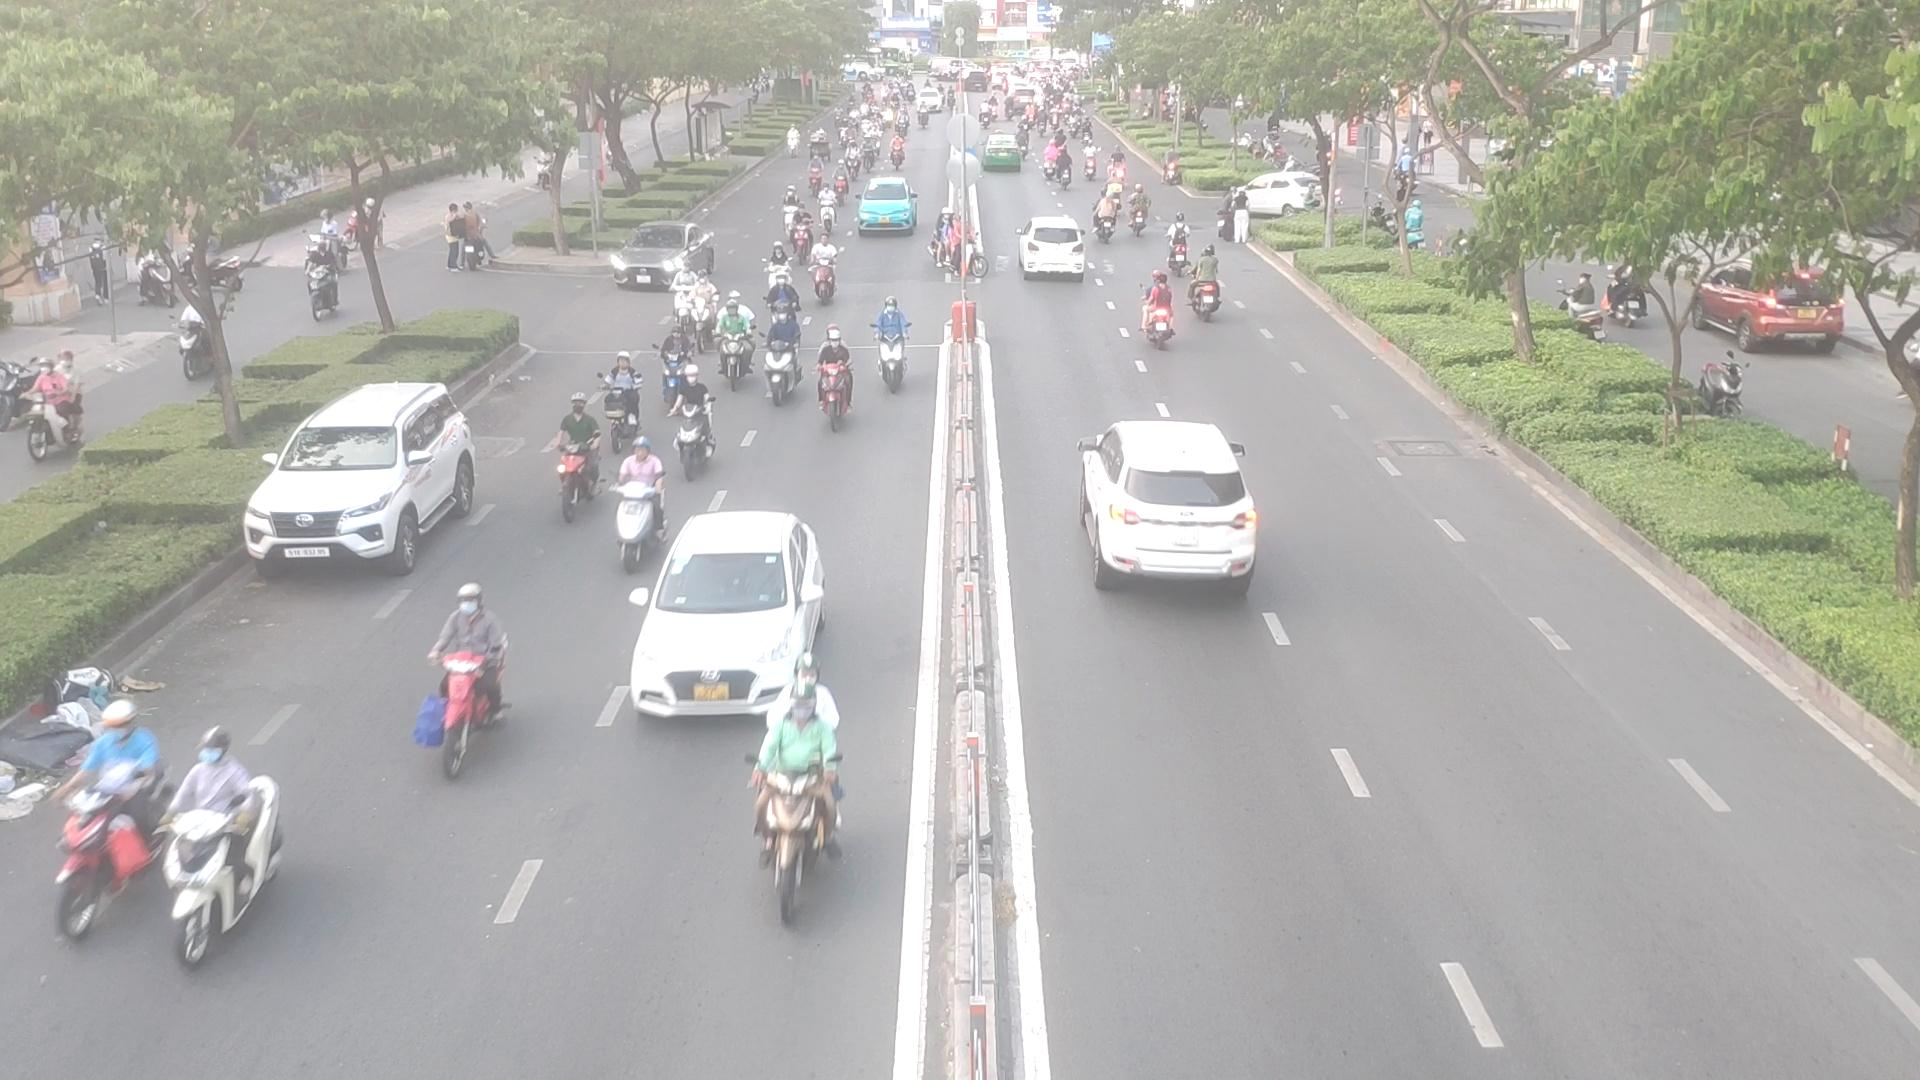car: (244, 382, 491, 574), (622, 512, 832, 723), (1077, 423, 1257, 587), (611, 224, 717, 293), (1019, 219, 1091, 282), (1236, 174, 1323, 218), (857, 179, 922, 237)
motorbike: (760, 695, 862, 967), (164, 754, 284, 982), (36, 728, 173, 911), (415, 650, 516, 778), (611, 438, 659, 575), (585, 348, 653, 443), (553, 402, 603, 525), (651, 320, 711, 407), (658, 386, 711, 483), (753, 318, 800, 414), (814, 335, 861, 429), (872, 298, 916, 388), (708, 314, 758, 392), (1195, 239, 1236, 326), (682, 277, 729, 349), (1143, 276, 1180, 357), (814, 247, 851, 314), (777, 189, 816, 241), (1121, 194, 1153, 244), (667, 276, 694, 331), (764, 249, 789, 307), (1097, 182, 1120, 247), (789, 211, 815, 262), (1171, 215, 1189, 278), (822, 189, 847, 229)
